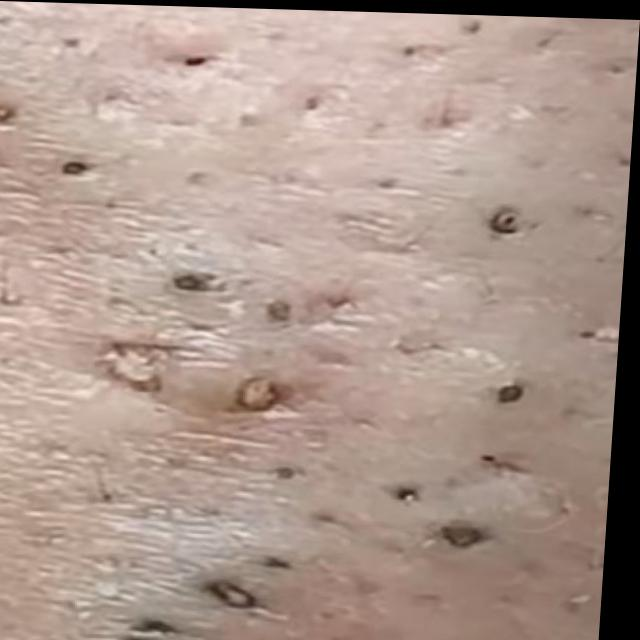dark spot: (225, 362, 292, 425), (193, 568, 273, 616), (433, 506, 494, 560), (158, 265, 234, 305), (48, 152, 100, 185), (389, 471, 433, 507), (486, 202, 532, 233), (501, 374, 541, 409)
